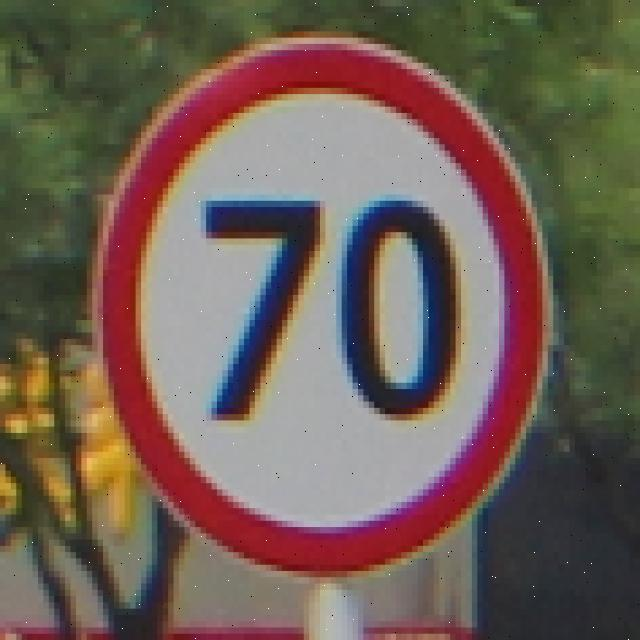speed limit 70: (102, 37, 549, 575)
